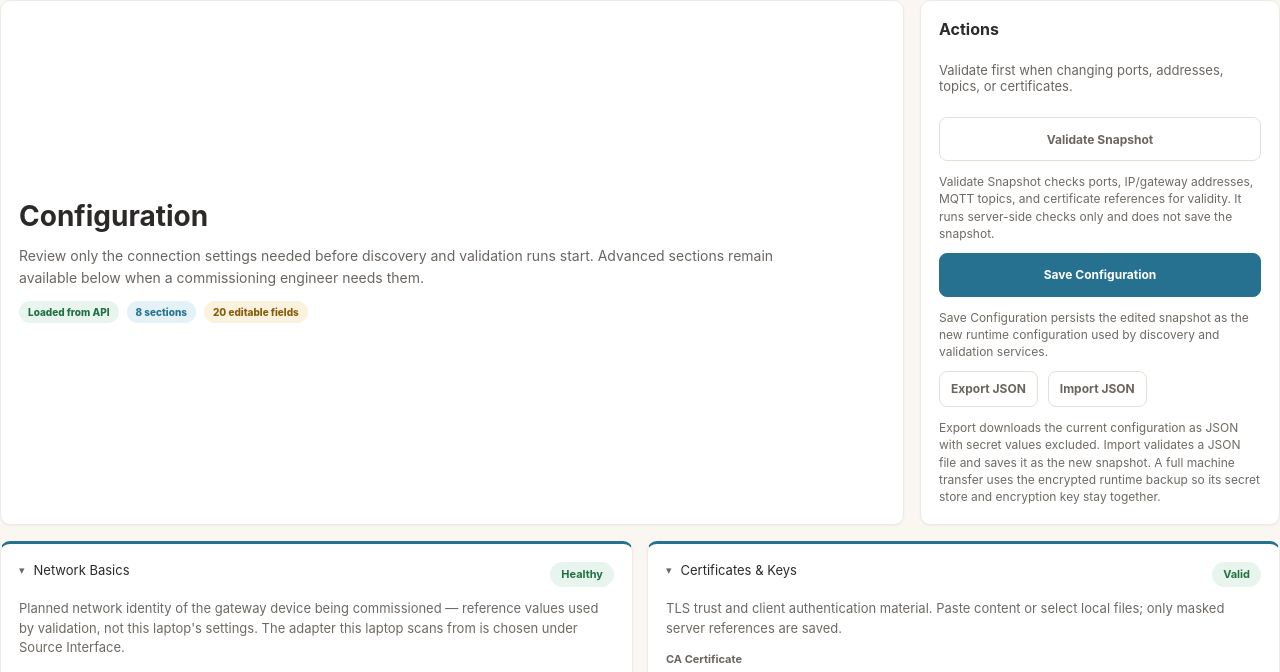
it: ConfigurationPage › exports the current configuration as a masked JSON envelope
Click the button "Export JSON" at {"x": 988, "y": 389}, box left=939, top=371, right=1038, bottom=407
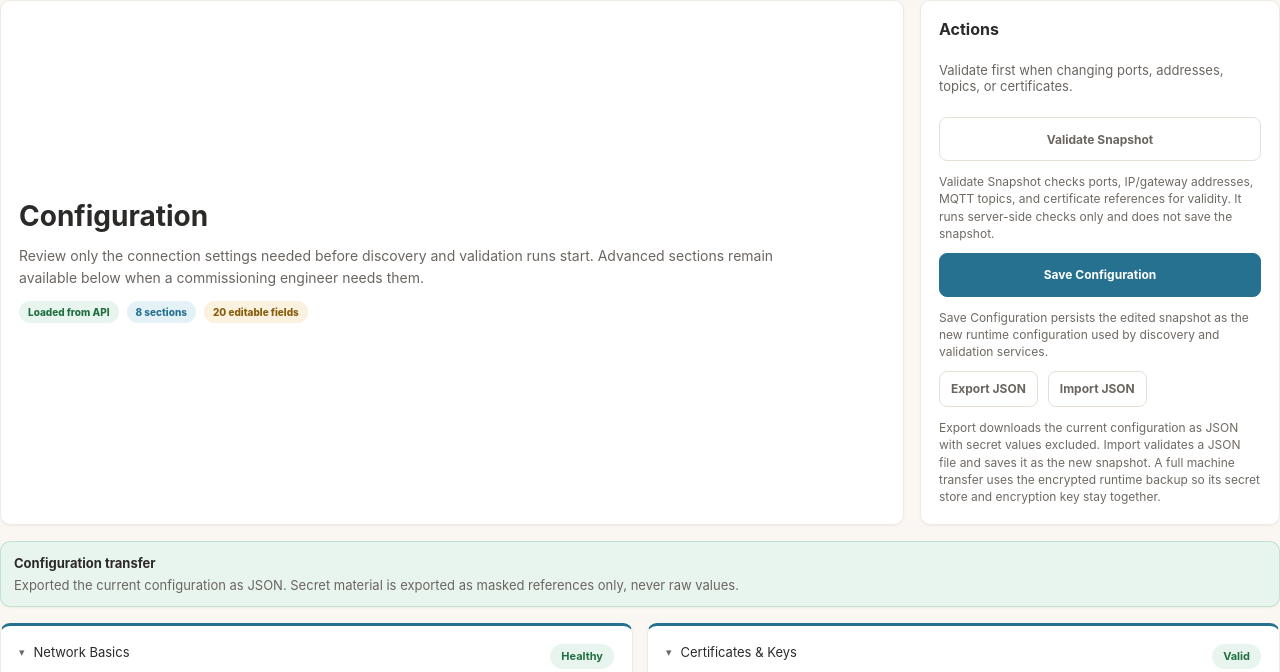
Check: the text "Exported the current configuration" is shown, box left=14, top=577, right=739, bottom=593
